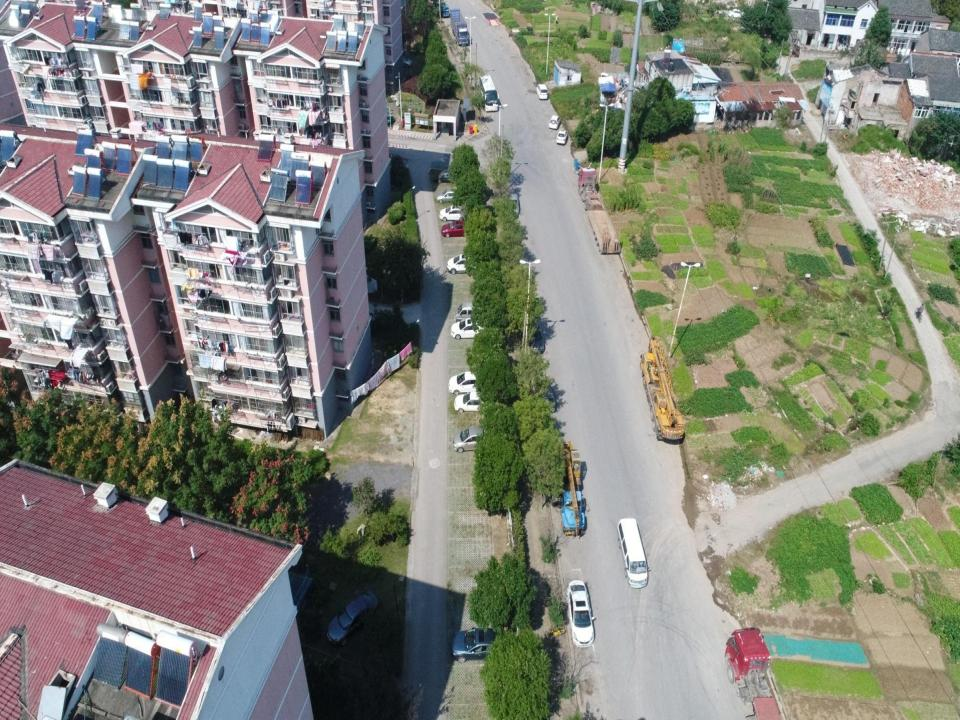bus: (479, 72, 499, 112), (440, 1, 450, 18)
car: (325, 588, 379, 648), (451, 626, 513, 664), (566, 578, 594, 648), (452, 425, 501, 454), (447, 370, 498, 396), (454, 390, 505, 414), (450, 316, 495, 340), (445, 253, 490, 275), (440, 220, 477, 238), (438, 204, 472, 222), (528, 315, 544, 353), (435, 187, 467, 204), (432, 168, 462, 184), (508, 190, 520, 217), (728, 8, 749, 20), (396, 55, 413, 68), (548, 114, 561, 130), (556, 128, 568, 145), (380, 115, 395, 127)
truck: (724, 626, 785, 720), (578, 166, 623, 255), (449, 8, 469, 45)
van: (618, 518, 648, 589), (454, 301, 491, 323), (538, 382, 555, 414), (535, 82, 548, 100)
